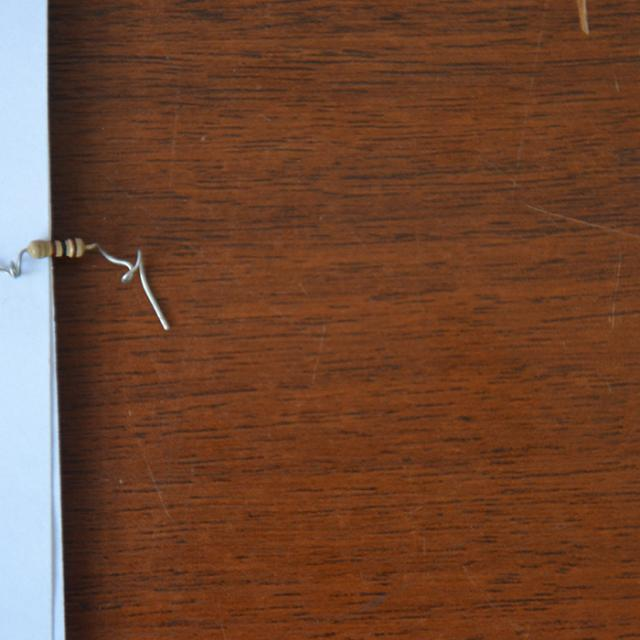Resistor Carbon-Film: (26, 235, 88, 261)
